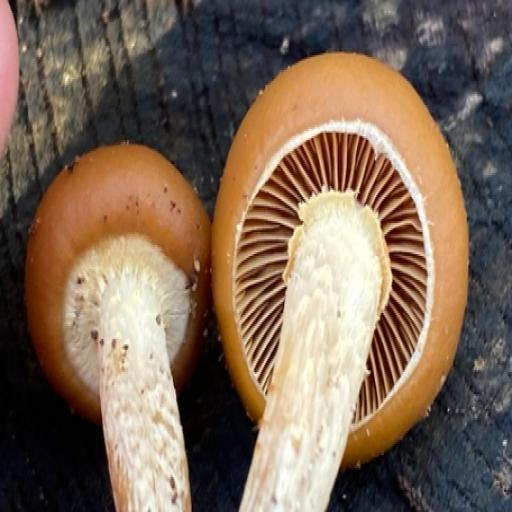Funeral Bell: (0, 16, 512, 512)
